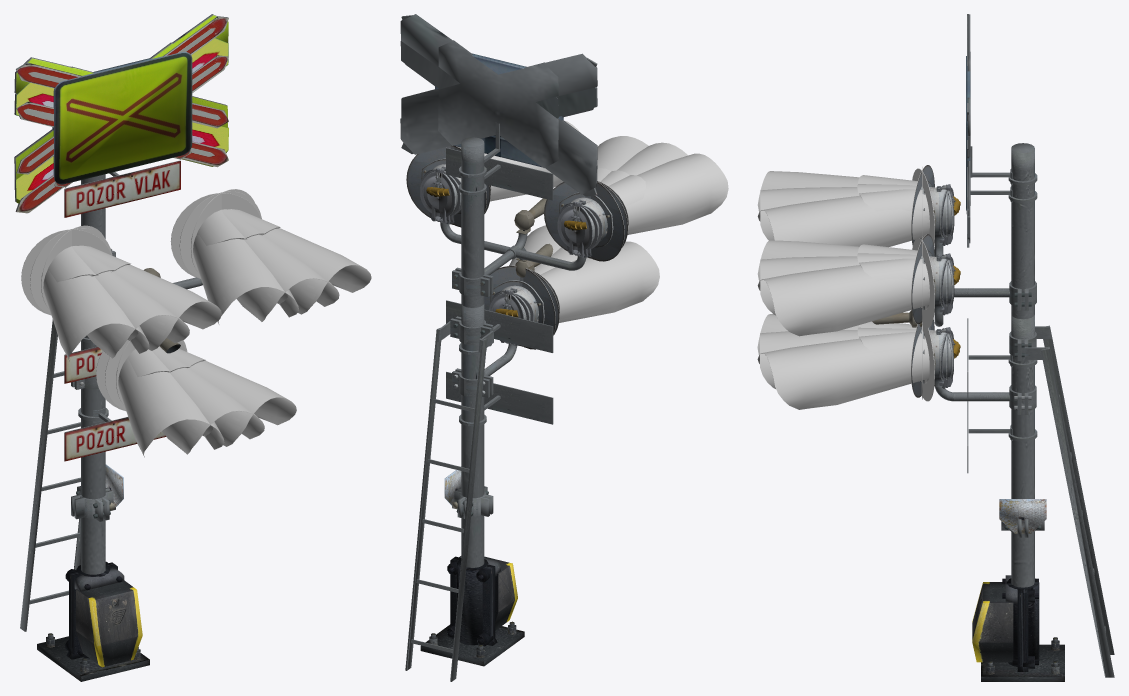
Rendered from sssrVyst_noveTextury.obj.
3 renders of one model, left to right at view 1: azimuth 30°, elevation 25°; view 2: azimuth 150°, elevation 25°; view 3: azimuth 270°, elevation 25°, orthographic. The views are drawn at different scales.
Visible parts, largest first — view 1: kriz_sk_refl, zaklad_stinidlo_long_L, zaklad_stinidlo_long_R, zaklad_stinidlo_long_S, kriz_xk_front_velky, podstavec, pozitivka_stinidlo_long_L, stozar_pruhy, pozitivka_stinidlo_long_R, pozor_vlak_up_front, zebrik, pozitivka_stinidlo_long_S (+15 smaller); view 2: kriz_xk_refl_maly, kriz_xk_refl_velky, zebrik, zaklad_stinidlo_long_L, pozitivka_stinidlo_long_L, stozar_pruhy, zaklad, stozar_delsi, zaklad_base_back_R, pozor_vlak_up_back, pozor_vlak_mid_back, pozor_vlak_dn_back (+22 smaller); view 3: zaklad_stinidlo_long_R, pozitivka_stinidlo_long_R, zebrik, stozar_pruhy, stozar_delsi, zaklad_stinidlo_long_S, podstavec, zaklad_stinidlo_long_L, zaklad_stinidlo_short_R, zaklad, podklad, pozitivka_stinidlo_long_S (+13 smaller).
Part boxes in pixels (<box>): kriz_sk_refl: <box>52,51,192,184</box>; zaklad_stinidlo_long_L: <box>41,235,299,361</box>; zaklad_stinidlo_long_R: <box>113,228,371,350</box>; zaklad_stinidlo_long_S: <box>87,234,339,358</box>; kriz_xk_front_velky: <box>17,17,228,213</box>; podstavec: <box>74,568,142,667</box>; pozitivka_stinidlo_long_L: <box>116,357,224,457</box>; stozar_pruhy: <box>71,335,115,574</box>; pozitivka_stinidlo_long_R: <box>188,360,296,446</box>; pozor_vlak_up_front: <box>64,161,180,217</box>; zebrik: <box>20,319,80,631</box>; pozitivka_stinidlo_long_S: <box>162,367,264,454</box>; kriz_xk_refl_maly: <box>438,40,558,168</box>; kriz_xk_refl_velky: <box>400,14,597,194</box>; zebrik: <box>405,316,493,681</box>; zaklad_stinidlo_long_L: <box>490,121,728,234</box>; pozitivka_stinidlo_long_L: <box>554,241,659,322</box>; stozar_pruhy: <box>452,303,493,567</box>; zaklad: <box>447,556,498,646</box>; stozar_delsi: <box>461,137,484,307</box>; zaklad_base_back_R: <box>406,146,628,251</box>; pozor_vlak_up_back: <box>446,147,553,200</box>; pozor_vlak_mid_back: <box>446,300,553,352</box>; pozor_vlak_dn_back: <box>446,371,553,424</box>; zaklad_stinidlo_long_R: <box>757,195,929,336</box>; pozitivka_stinidlo_long_R: <box>757,335,929,409</box>; zebrik: <box>1009,325,1114,677</box>; stozar_pruhy: <box>1010,314,1035,587</box>; stozar_delsi: <box>1011,143,1034,319</box>; zaklad_stinidlo_long_S: <box>760,187,859,315</box>; podstavec: <box>972,575,1017,662</box>; zaklad_stinidlo_long_L: <box>757,171,859,281</box>; zaklad_stinidlo_short_R: <box>859,189,929,299</box>; zaklad: <box>1002,578,1039,671</box>; podklad: <box>981,637,1064,681</box>; pozitivka_stinidlo_long_S: <box>760,330,859,388</box>.
Bounding box in the file's own units: 0.9236 × 1.89 × 1.
